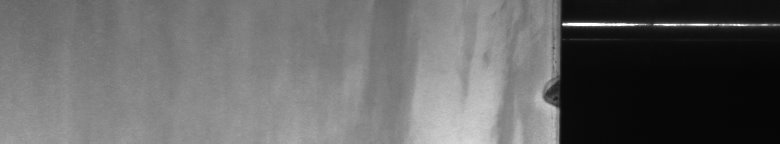hb: (516, 80, 548, 136)
